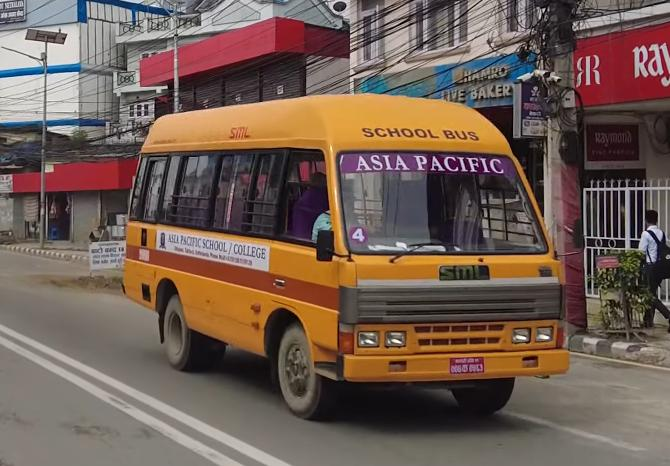school_bus: (117, 92, 569, 423)
